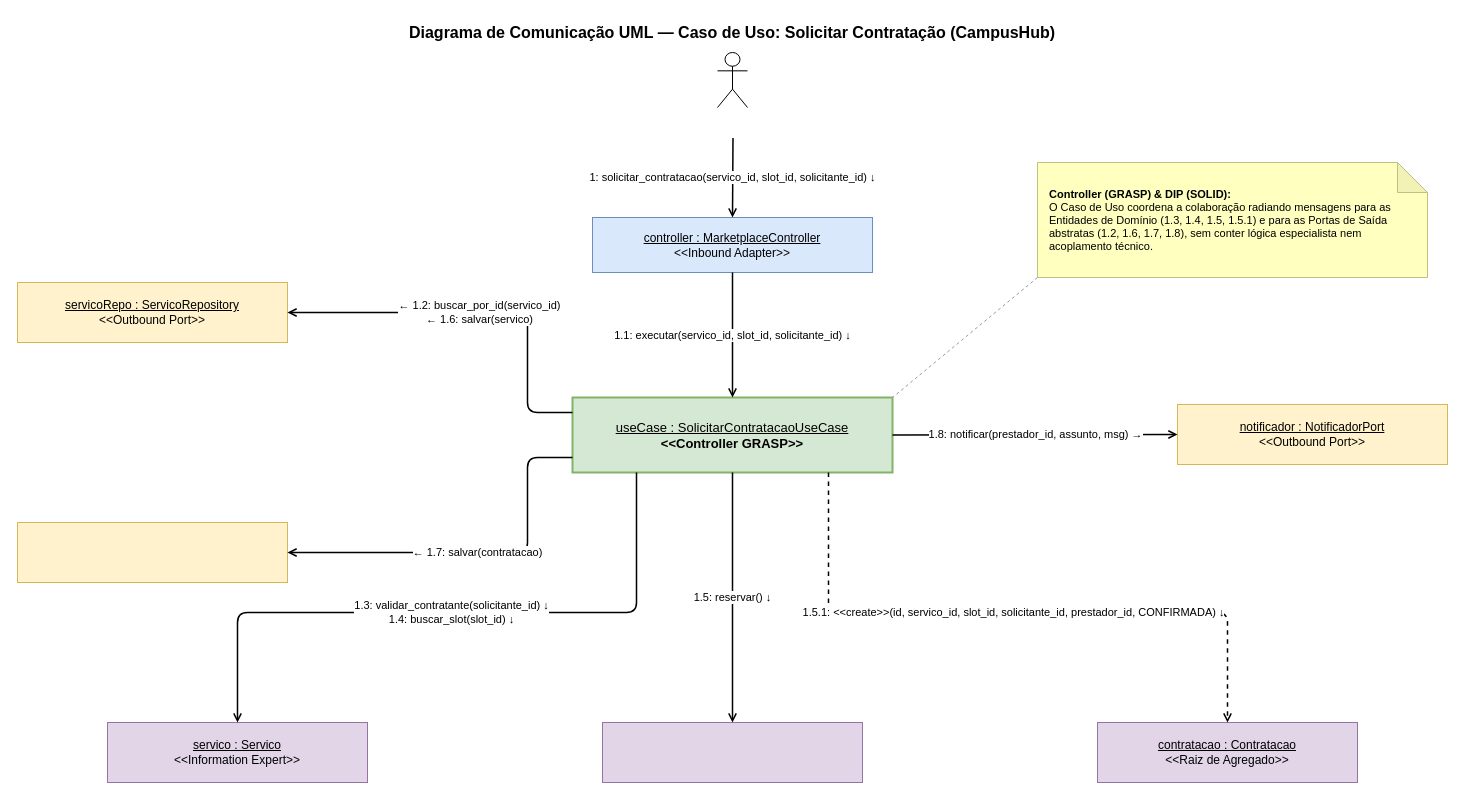
Image size: 1465x800. Some labels were removed from this diagram. The shapes that lost their labels are listed below. From the top down, each one's centre as x and y in pixels, then its label:
At pixel 732 80: "Solicitante".
At pixel 152 552: "contratacaoRepo : ContratacaoRepository <<Outbound Port>>".
At pixel 732 752: "slot : SlotDisponibilidade <<Information Expert>>".
